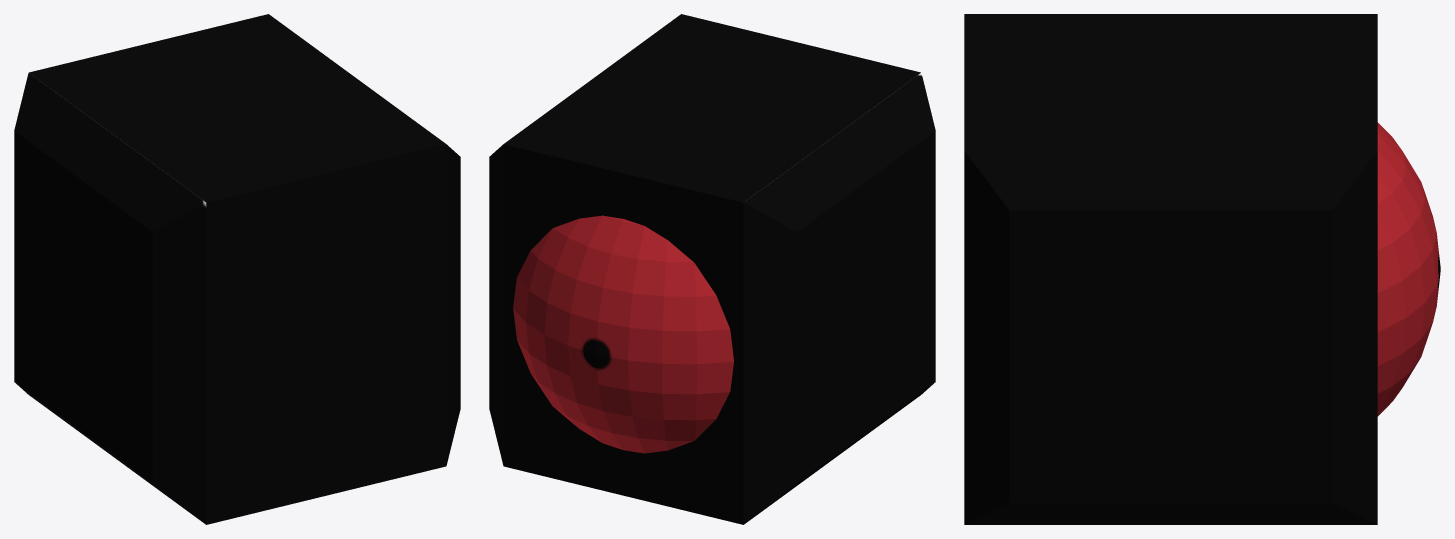
The model's file is enemy.obj.
3 views of the same model, side by side, from view 1: azimuth 30°, elevation 25°; view 2: azimuth 150°, elevation 25°; view 3: azimuth 270°, elevation 25° (orthographic). The views are drawn at different scales.
Parts seen in each view (by area): view 1: 立方体; view 2: 立方体; view 3: 立方体.
Boxes of the visible parts, bbox=[...] form: 立方体: bbox=[14, 14, 460, 524]; 立方体: bbox=[489, 14, 935, 524]; 立方体: bbox=[964, 14, 1440, 524].
Size of the model in its own units: 2 by 2 by 2.31.
